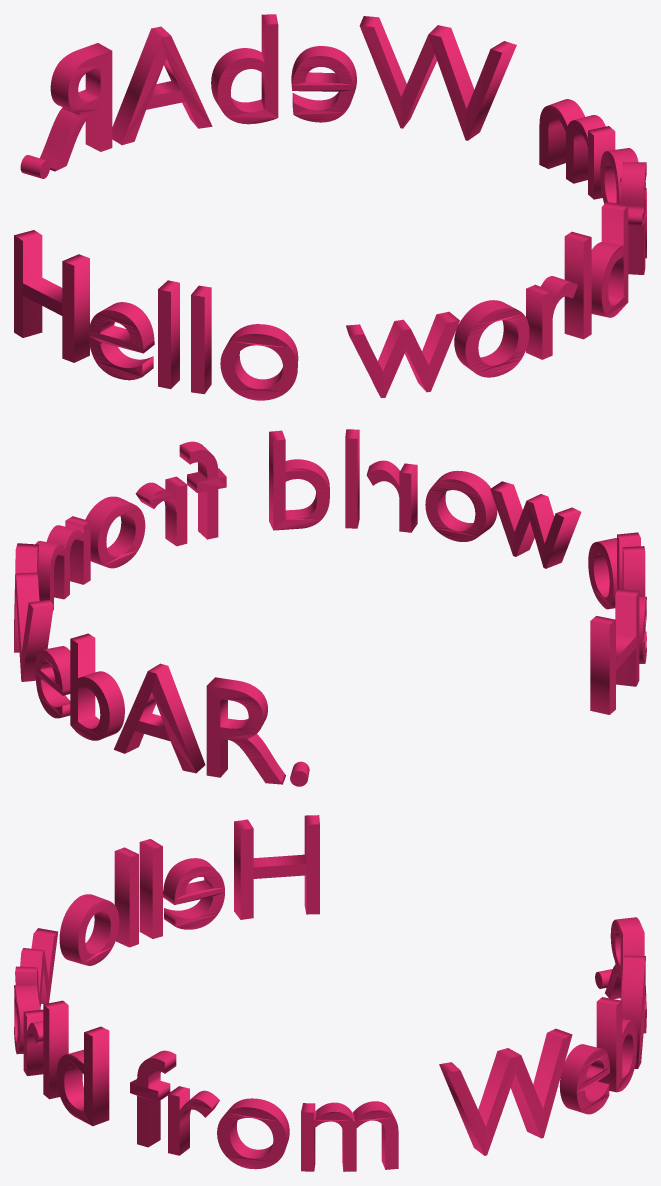
File: helloworld-webar-text.glb
The picture shows the model from 3 angles, top to bottom: view 1: azimuth 30°, elevation 25°; view 2: azimuth 150°, elevation 25°; view 3: azimuth 270°, elevation 25°; orthographic projection. The views are drawn at different scales.
Parts seen in each view (by area): view 1: Text; view 2: Text; view 3: Text.
Part boxes in pixels (<box>): Text: <box>14,14,646,400</box>; Text: <box>14,429,646,786</box>; Text: <box>14,815,646,1171</box>.
Bounding box in the file's own units: 4.35 × 0.7004 × 4.36.
